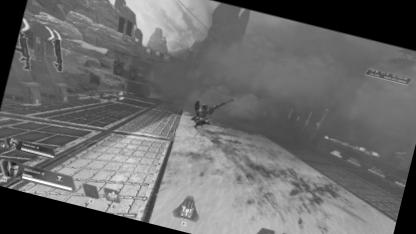Target: (190, 99, 214, 132)
